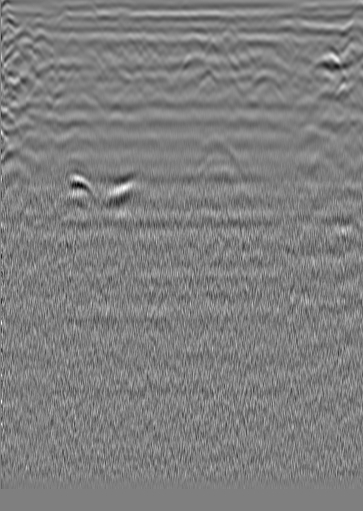가스: (102, 179, 138, 209)
상수: (319, 46, 339, 66)
우수: (185, 52, 205, 72)
